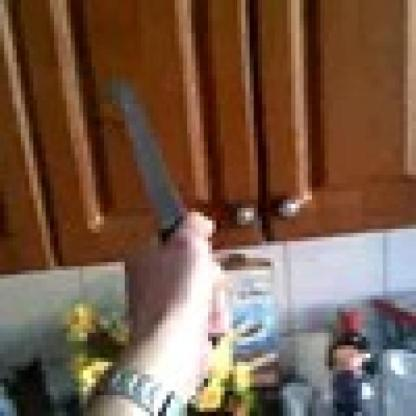Knife: (113, 70, 191, 250)
